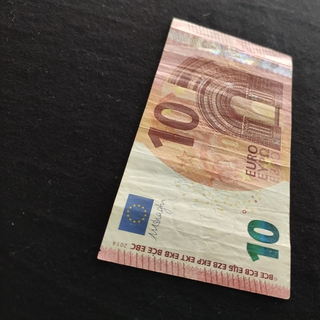10EUROFront: (97, 16, 293, 301)
